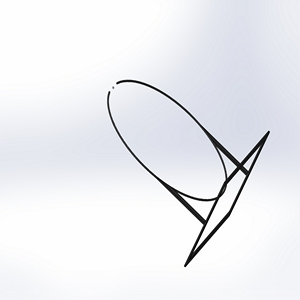circle: (105, 76, 271, 268)
